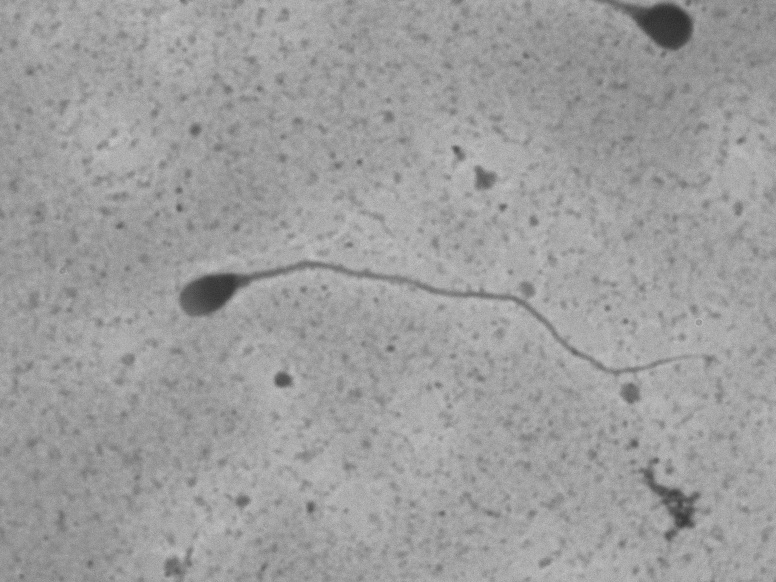Normal: (147, 233, 728, 406)
